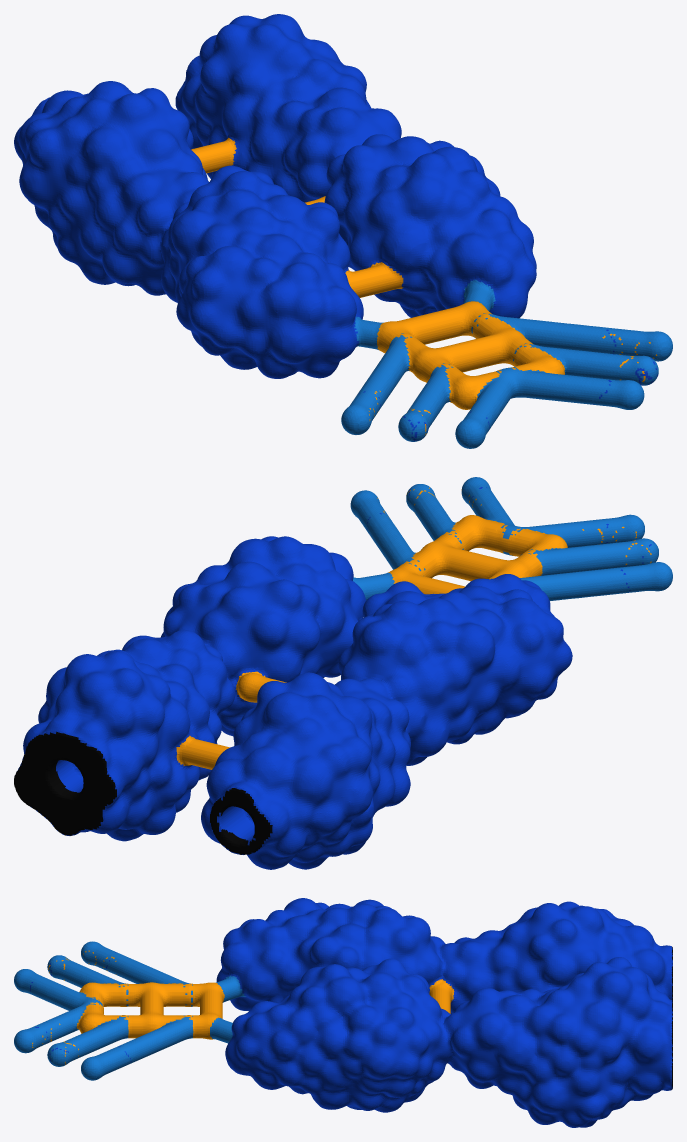
Rendered from IgG_part2_stem.obj.
The picture shows the model from 3 angles, top to bottom: view 1: azimuth 30°, elevation 25°; view 2: azimuth 150°, elevation 25°; view 3: azimuth 270°, elevation 25°; orthographic projection. The views are drawn at different scales.
Visible parts, largest first — view 1: IgG_part2_stem; view 2: IgG_part2_stem; view 3: IgG_part2_stem.
Boxes of the visible parts, bbox=[...] form: IgG_part2_stem: bbox=[14, 14, 672, 448]; IgG_part2_stem: bbox=[14, 477, 672, 869]; IgG_part2_stem: bbox=[14, 898, 672, 1127].
Size of the model in its own units: 54.66 by 28.9 by 111.
